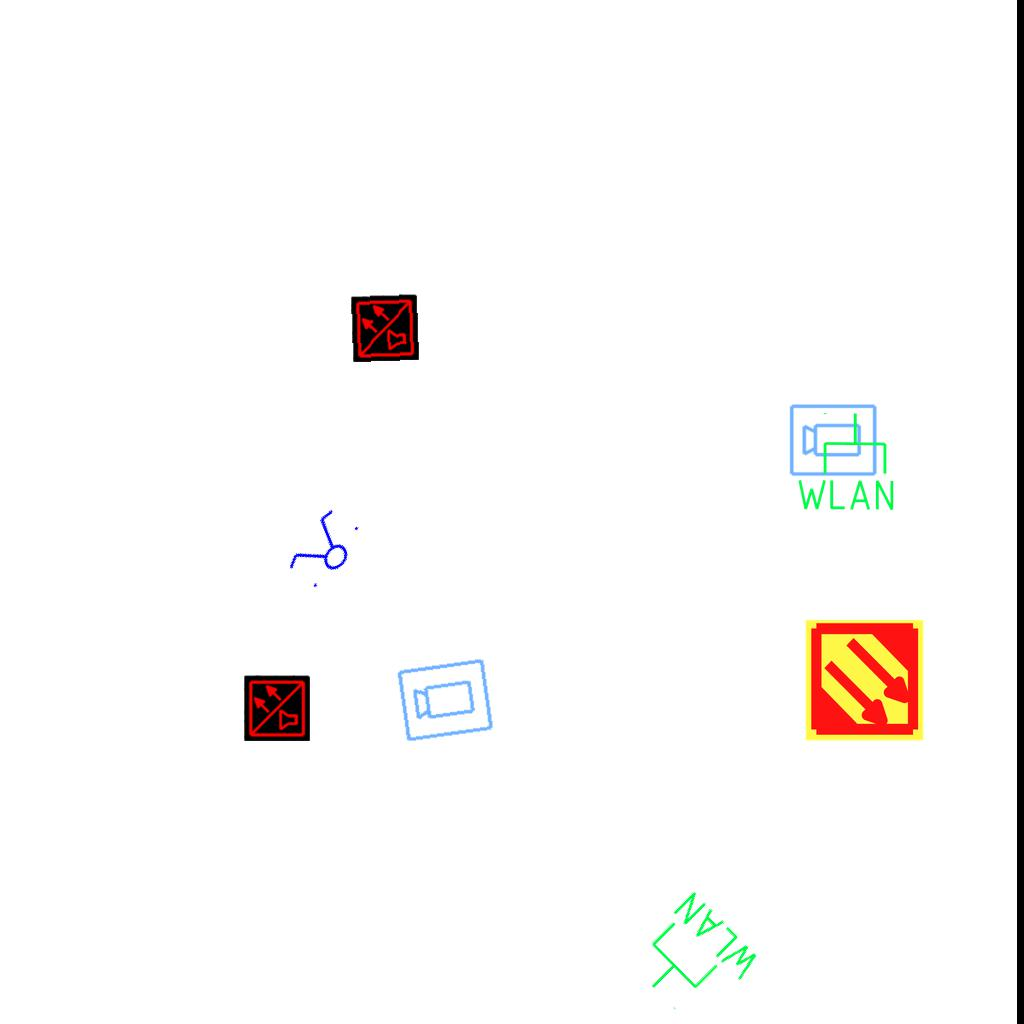ASR_Ansaugrauchmelder: (802, 618, 927, 743)
KFO_Kamera_mit_Festobjektiv: (395, 655, 496, 744), (788, 401, 879, 478)
OKW_Multisensormelder_(Kombination_optischer_Rauch-Kahlenmonoxid_Waerme-Melder): (350, 293, 420, 363), (244, 675, 310, 741)
Serienschalter: (280, 501, 370, 599)
WLAN: (620, 885, 768, 1024), (793, 410, 898, 514)
